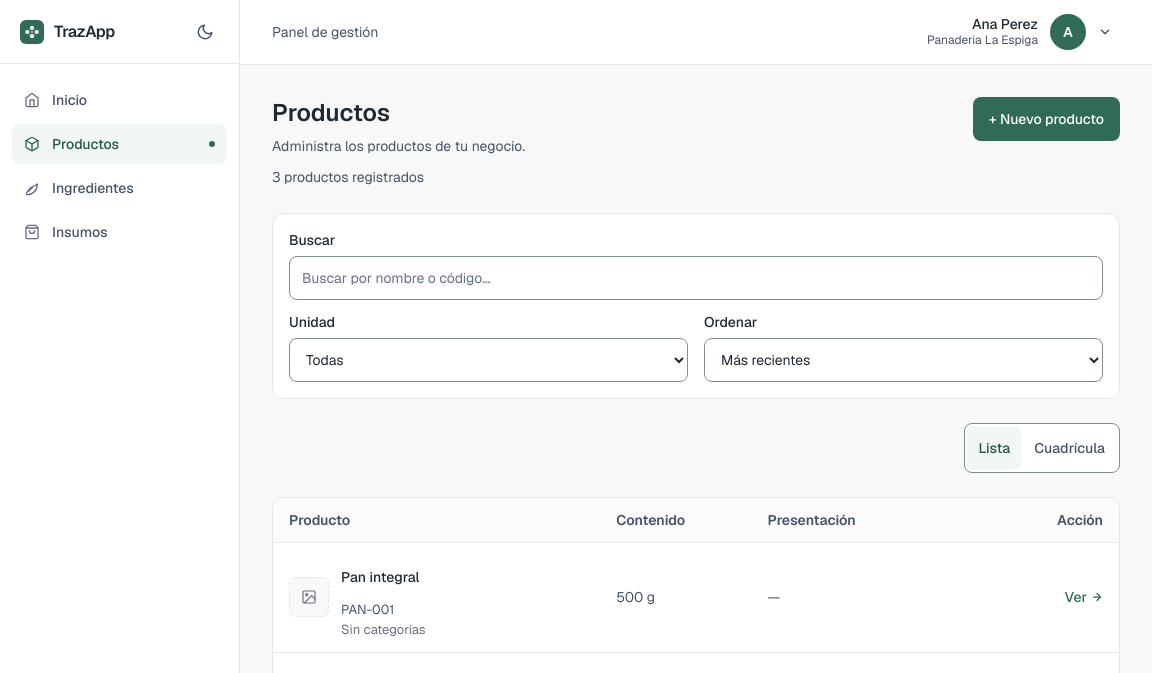
Test: Productos HU01 — listado y navegación › combina búsqueda y filtro y muestra sin resultados con limpiar filtros
Expected: the heading "Productos" is shown, top-left (272, 97), bottom-right (390, 129)
Type "pan" into the search field named "Buscar por nombre o código".
click(696, 278); type("pan")  # box top-left (289, 256), bottom-right (1103, 300)
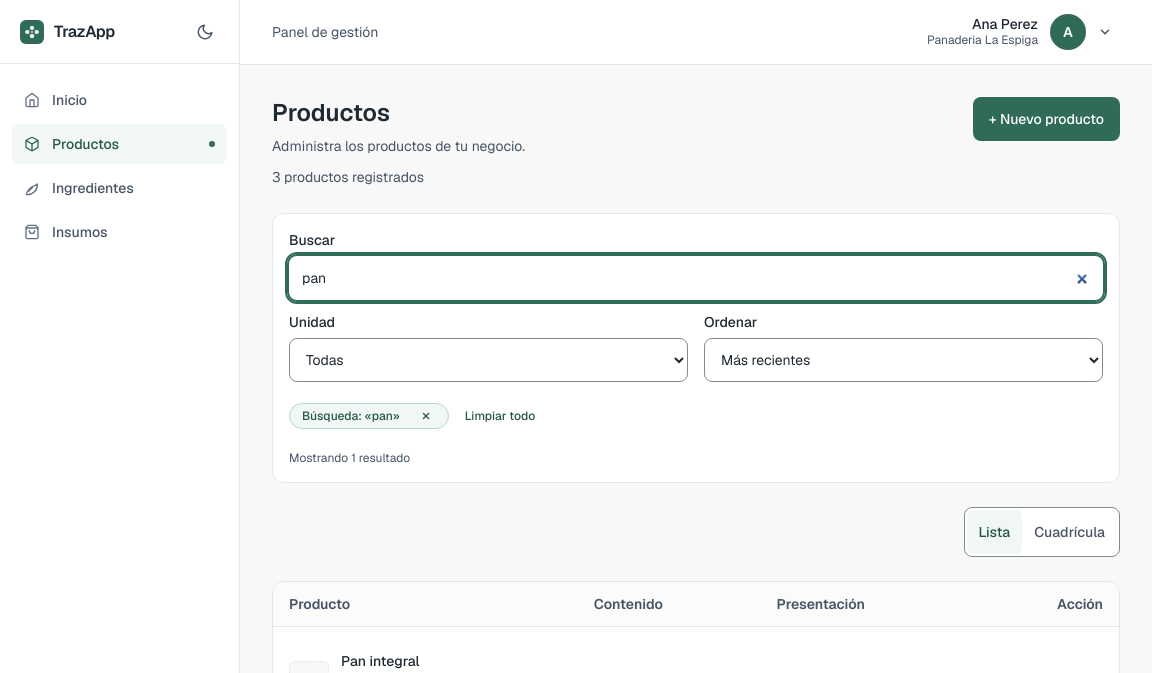
Select "kg" in the dropdown named "Filtrar por unidad de medida" at (488, 360), box top-left (289, 338), bottom-right (688, 382)
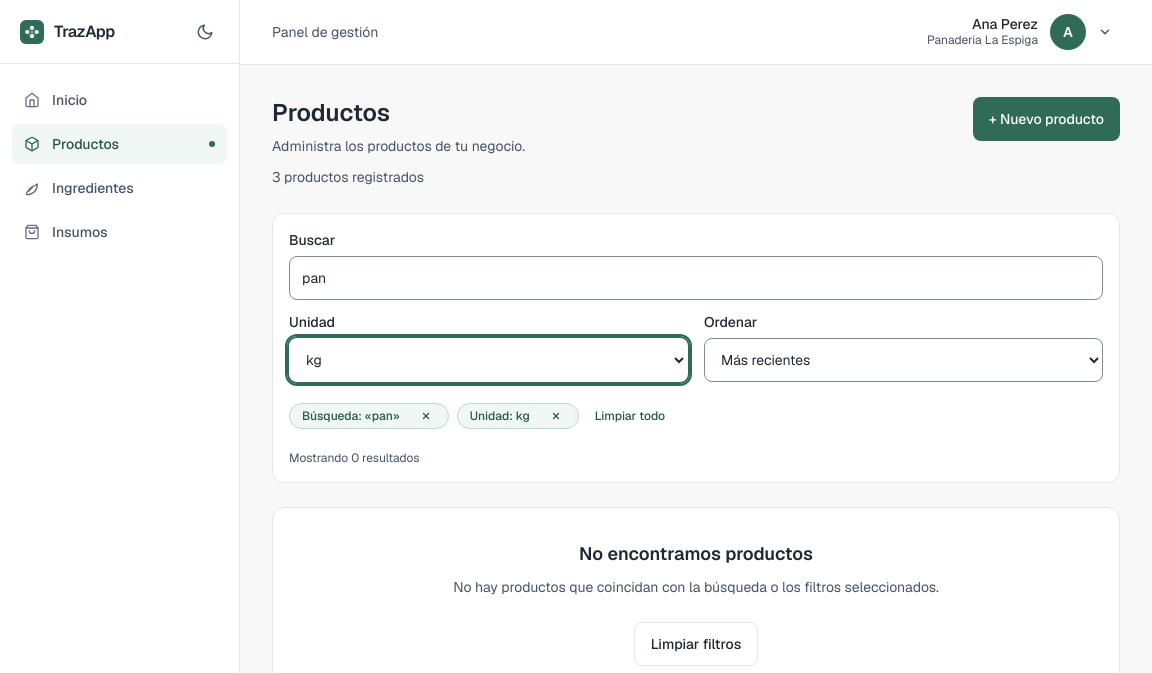
Now the heading "No encontramos productos" is shown, box top-left (579, 542), bottom-right (813, 564)
Click the button "Limpiar filtros".
click(696, 644)  # box top-left (634, 622), bottom-right (758, 666)
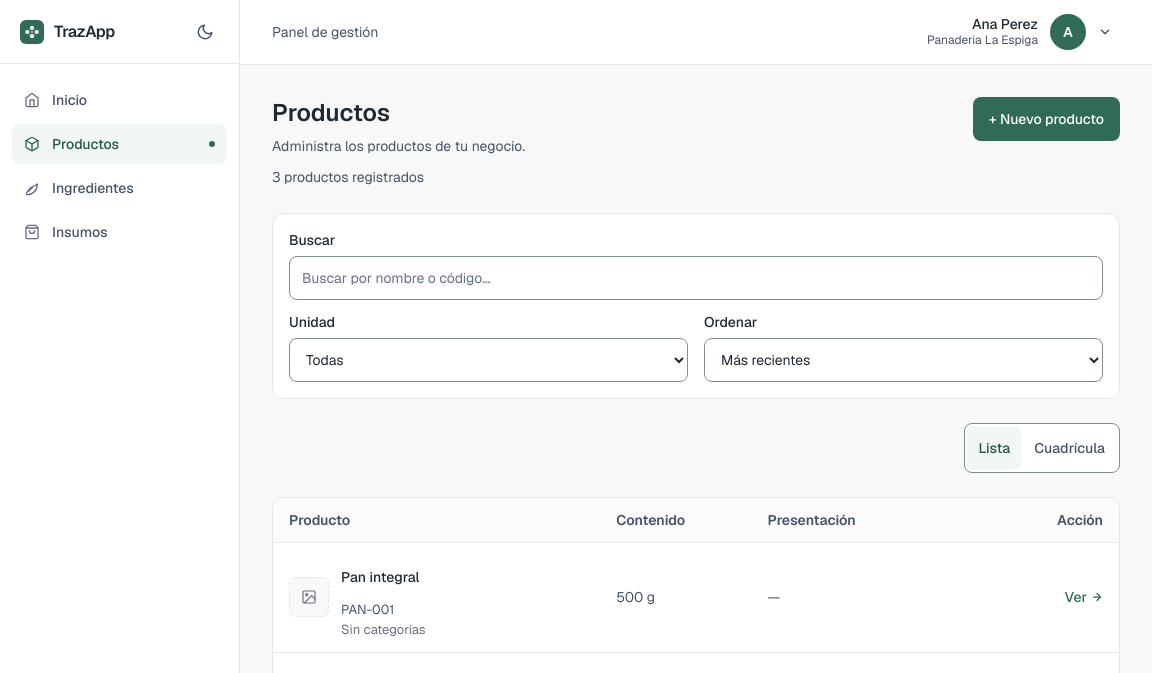
Expected: the dropdown named "Ordenar productos" shows "Más recientes", top-left (704, 338), bottom-right (1103, 382)
Now the search field named "Buscar por nombre o código" is empty, box top-left (289, 256), bottom-right (1103, 300)
